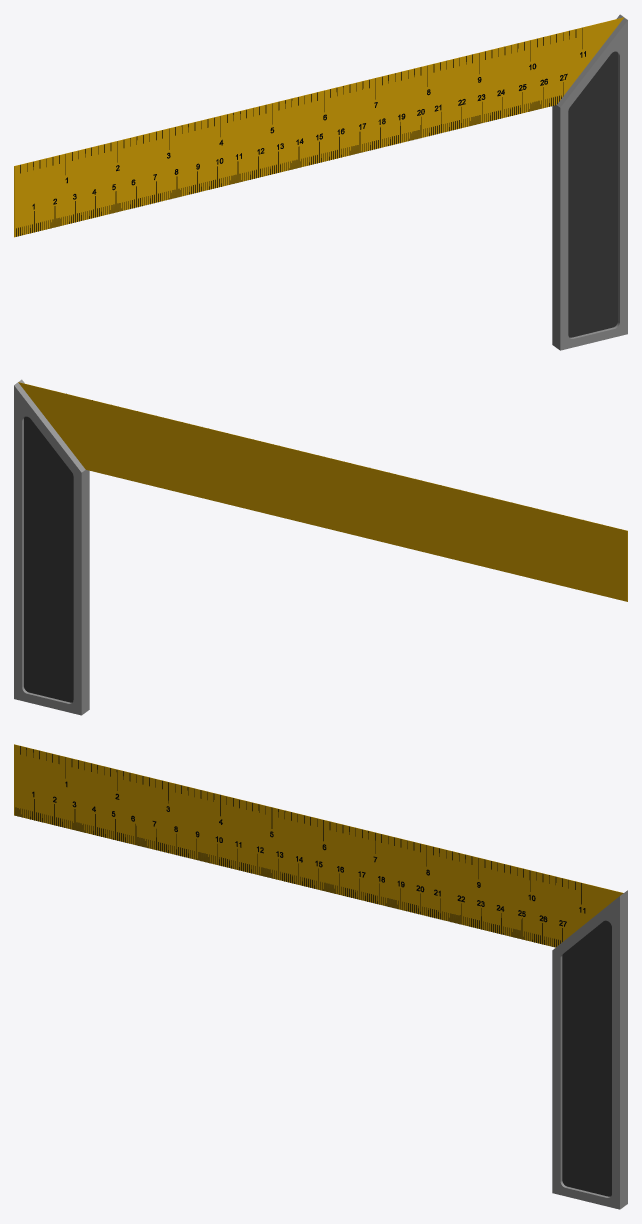
Rendered from try_square.glb.
The picture shows the model from 3 angles, top to bottom: view 1: azimuth 30°, elevation 25°; view 2: azimuth 150°, elevation 25°; view 3: azimuth 330°, elevation 25°; orthographic projection.
Parts seen in each view (by area): view 1: Object.001_Material.001_0, Object.002_Material.003_0, Object.002_Material.002_0, Object_Material_1_0; view 2: Object.001_Material.001_0, Object.002_Material.003_0, Object.002_Material.002_0; view 3: Object.001_Material.001_0, Object.002_Material.003_0, Object.002_Material.002_0, Object_Material_1_0.
Boxes of the visible parts, x1,y1,x2,y2 form: Object.001_Material.001_0: [14, 17, 623, 237]; Object.002_Material.003_0: [568, 51, 617, 337]; Object.002_Material.002_0: [552, 14, 627, 350]; Object_Material_1_0: [16, 28, 585, 236]; Object.001_Material.001_0: [18, 382, 627, 601]; Object.002_Material.003_0: [24, 416, 73, 702]; Object.002_Material.002_0: [14, 379, 89, 715]; Object.001_Material.001_0: [14, 744, 623, 947]; Object.002_Material.003_0: [562, 920, 611, 1196]; Object.002_Material.002_0: [552, 890, 627, 1209]; Object_Material_1_0: [15, 746, 585, 947].
Size of the model in its own units: 0.3 by 0.1476 by 0.00675.
